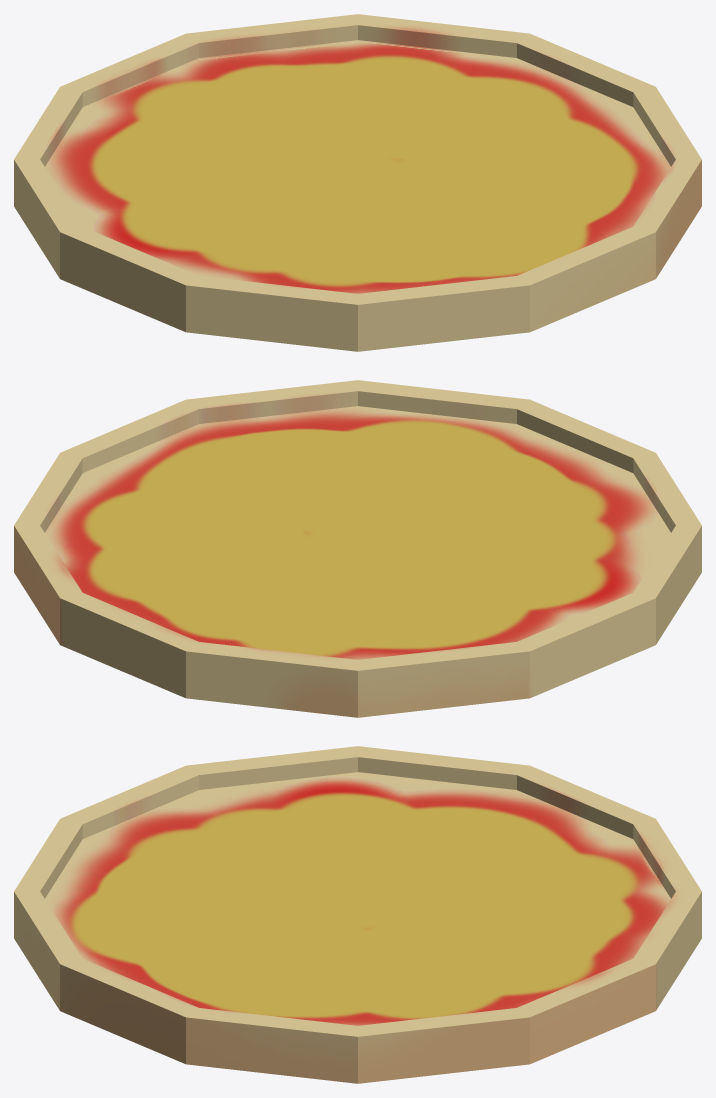
Rendered from RawPlain.fbx.
The picture shows the model from 3 angles, top to bottom: view 1: azimuth 30°, elevation 25°; view 2: azimuth 150°, elevation 25°; view 3: azimuth 270°, elevation 25°; orthographic projection.
Parts seen in each view (by area): view 1: PizzaBase; view 2: PizzaBase; view 3: PizzaBase.
Boxes of the visible parts, x1,y1,x2,y2 form: PizzaBase: [14, 14, 701, 351]; PizzaBase: [14, 380, 701, 717]; PizzaBase: [14, 746, 701, 1083].
Size of the model in its own units: 200 by 15.07 by 200.
